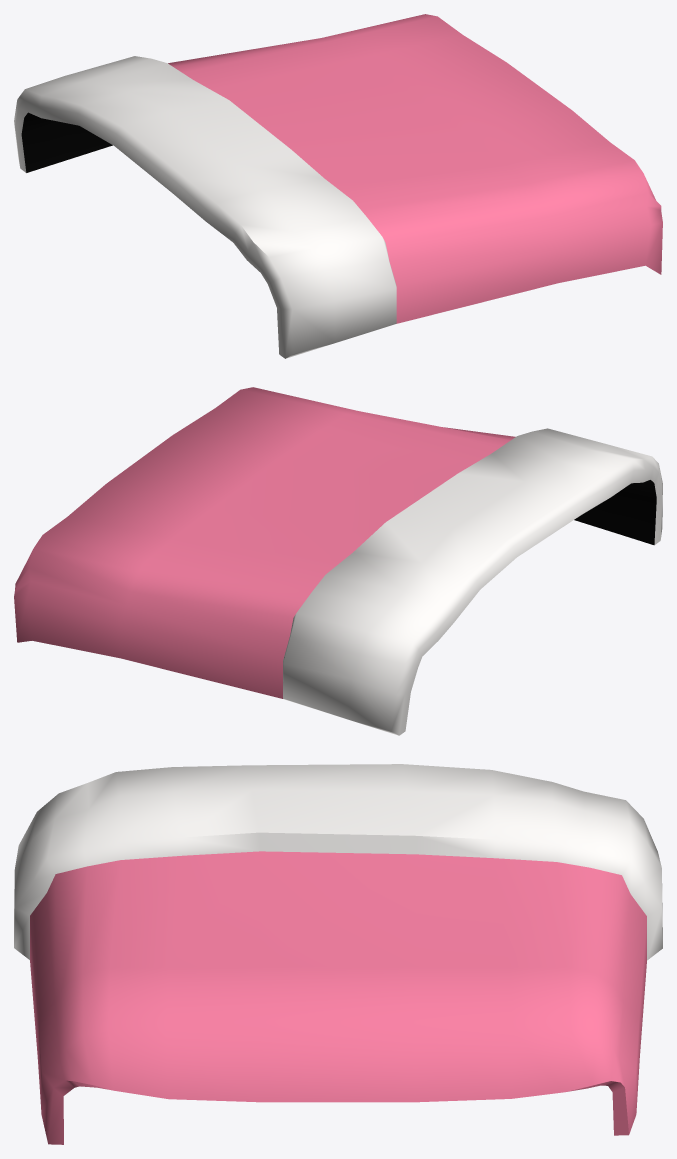
The model's file is Bed_Blanket.fbx.
The picture shows the model from 3 angles, top to bottom: view 1: azimuth 30°, elevation 25°; view 2: azimuth 150°, elevation 25°; view 3: azimuth 270°, elevation 25°; orthographic projection. The views are drawn at different scales.
Parts seen in each view (by area): view 1: Bed_Blanket; view 2: Bed_Blanket; view 3: Bed_Blanket.
Part boxes in pixels (x1,y1,x2,y2): Bed_Blanket: (14,14,662,358); Bed_Blanket: (14,387,662,735); Bed_Blanket: (14,764,662,1144).
Bounding box in the file's own units: 172 × 51.83 × 193.
